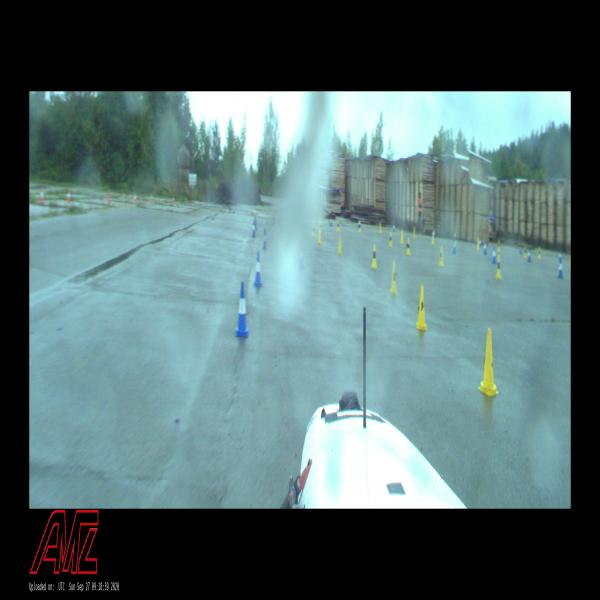blue_cone: (235, 282, 249, 338), (254, 251, 262, 288), (262, 229, 268, 250), (558, 259, 563, 279), (252, 220, 256, 238), (492, 246, 496, 264), (528, 248, 532, 262), (483, 241, 487, 254), (452, 241, 456, 253), (392, 223, 395, 232), (559, 252, 561, 262), (330, 216, 332, 226)
orange_cone: (39, 188, 44, 205), (66, 188, 71, 204), (107, 192, 111, 205), (133, 193, 137, 204), (150, 194, 153, 203), (172, 195, 175, 204)
yellow_cone: (477, 328, 499, 397), (415, 285, 428, 331), (390, 262, 397, 294), (371, 244, 378, 269), (496, 255, 502, 280), (439, 246, 444, 267), (337, 234, 342, 255), (388, 232, 393, 248), (406, 238, 410, 256), (400, 230, 404, 245), (524, 245, 528, 259), (318, 228, 321, 244), (431, 232, 435, 244), (318, 222, 322, 233), (538, 247, 541, 260), (358, 221, 361, 233), (312, 225, 315, 237), (497, 240, 500, 252), (476, 238, 479, 250), (412, 227, 415, 239), (337, 221, 340, 232), (379, 222, 382, 233)
